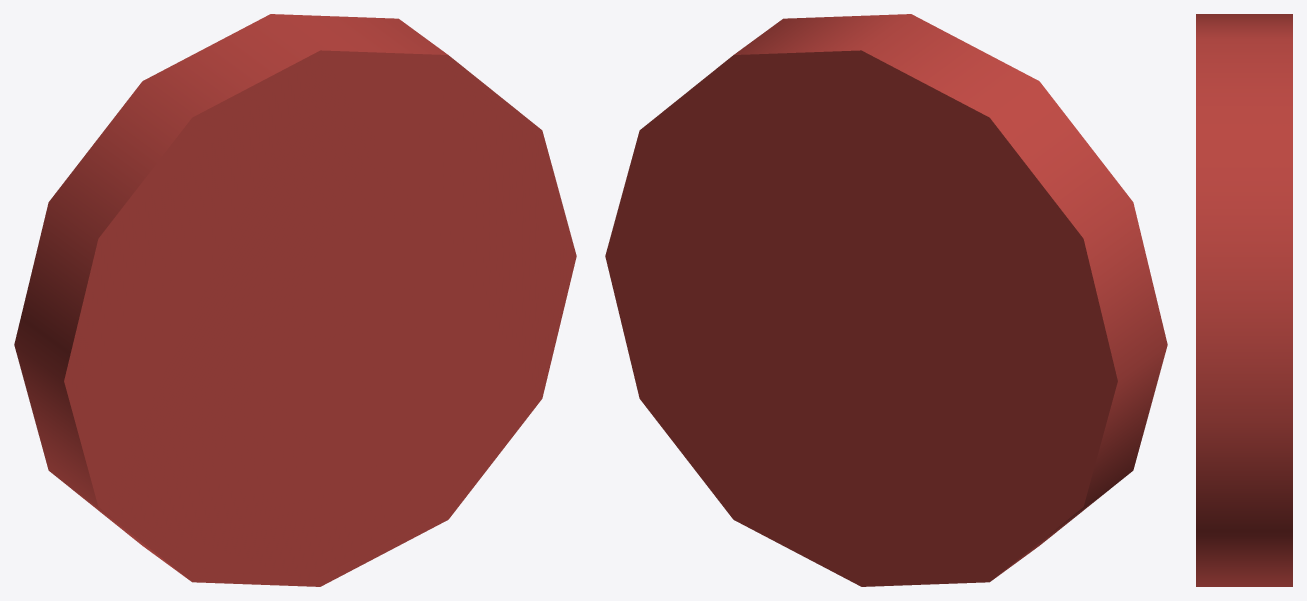
The model's file is front_14_lod2.glb.
The picture shows the model from 3 angles, left to right: view 1: azimuth 30°, elevation 25°; view 2: azimuth 150°, elevation 25°; view 3: azimuth 270°, elevation 25°; orthographic projection. The views are drawn at different scales.
Visible parts, largest first — view 1: front_14_lod2; view 2: front_14_lod2; view 3: front_14_lod2.
Part boxes in pixels (left/top/right/bottom): front_14_lod2: left=14, top=14, right=576, bottom=586; front_14_lod2: left=605, top=14, right=1167, bottom=586; front_14_lod2: left=1196, top=14, right=1292, bottom=586.
Bounding box in the file's own units: 0.0713 × 0.0713 × 0.012.
